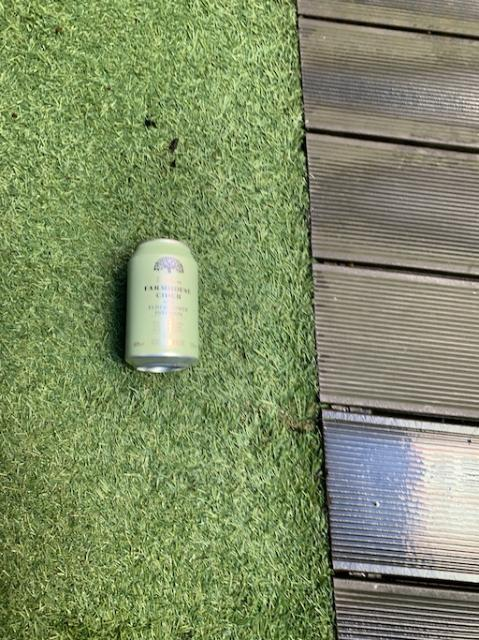metal: (125, 238, 197, 371)
